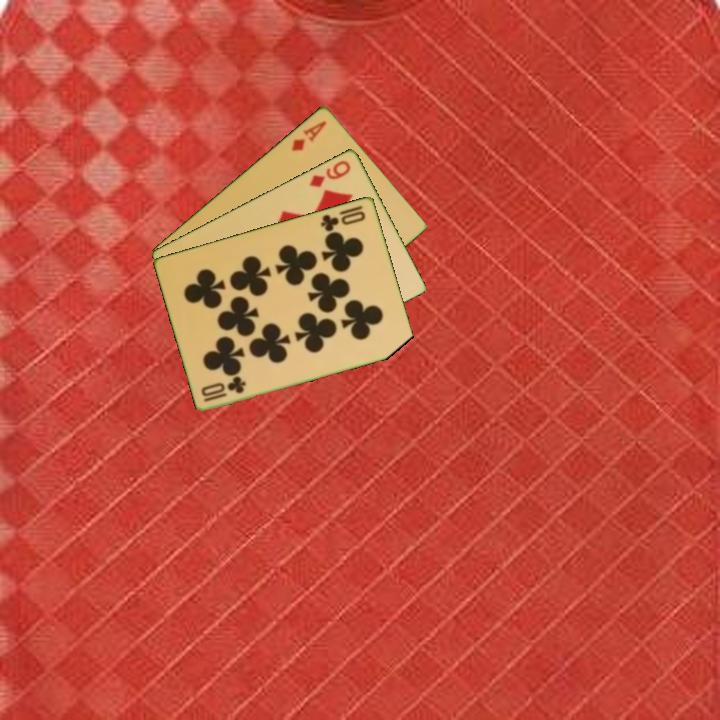10c: (317, 202, 368, 234), (198, 374, 249, 405)
9d: (305, 156, 354, 190)
Ad: (288, 117, 330, 154)
